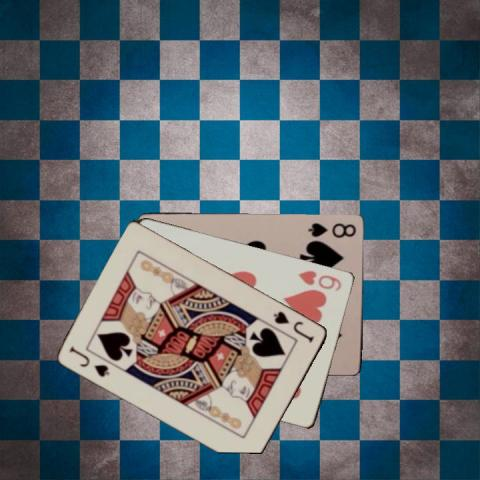6h: (296, 267, 343, 293)
8s: (306, 219, 358, 238)
Js: (271, 308, 316, 345), (67, 343, 111, 379)
